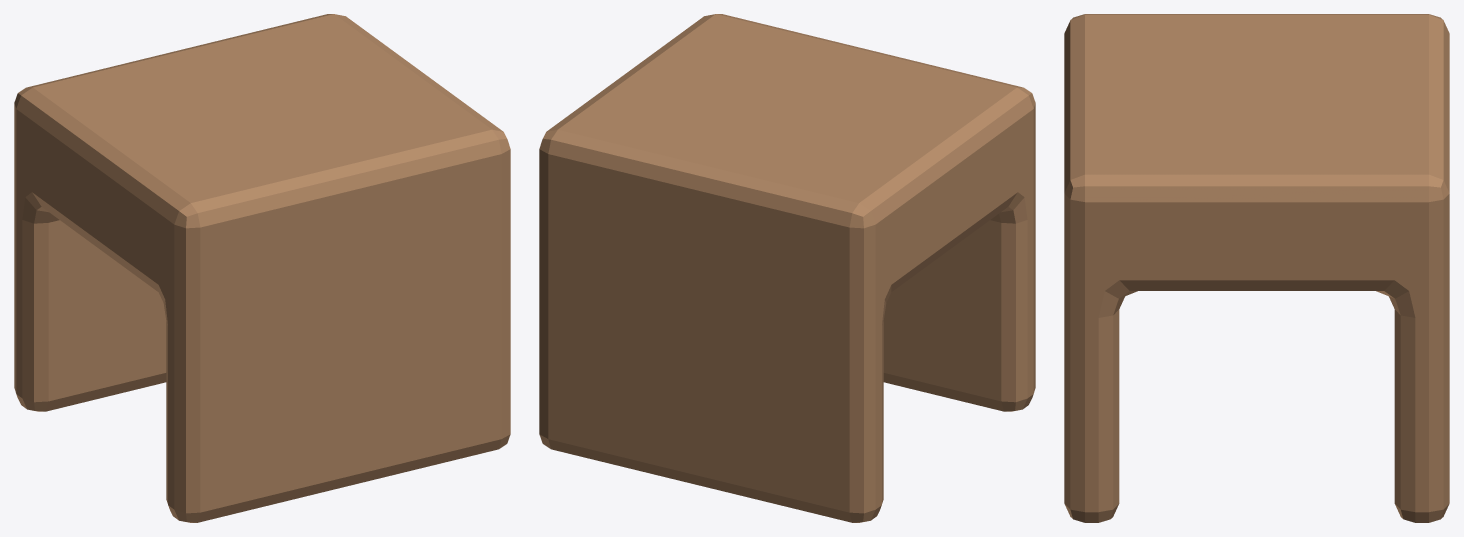
The model's file is BedTable.fbx.
3 views of the same model, side by side, from view 1: azimuth 30°, elevation 25°; view 2: azimuth 150°, elevation 25°; view 3: azimuth 270°, elevation 25° (orthographic). The views are drawn at different scales.
Visible parts, largest first — view 1: BedTable; view 2: BedTable; view 3: BedTable.
Part boxes in pixels (x1,y1,x2,y2): BedTable: (14,14,510,522); BedTable: (539,14,1035,522); BedTable: (1064,14,1449,522).
Bounding box in the file's own units: 0.3279 × 0.2997 × 0.301.
1 material, 1 textured.
